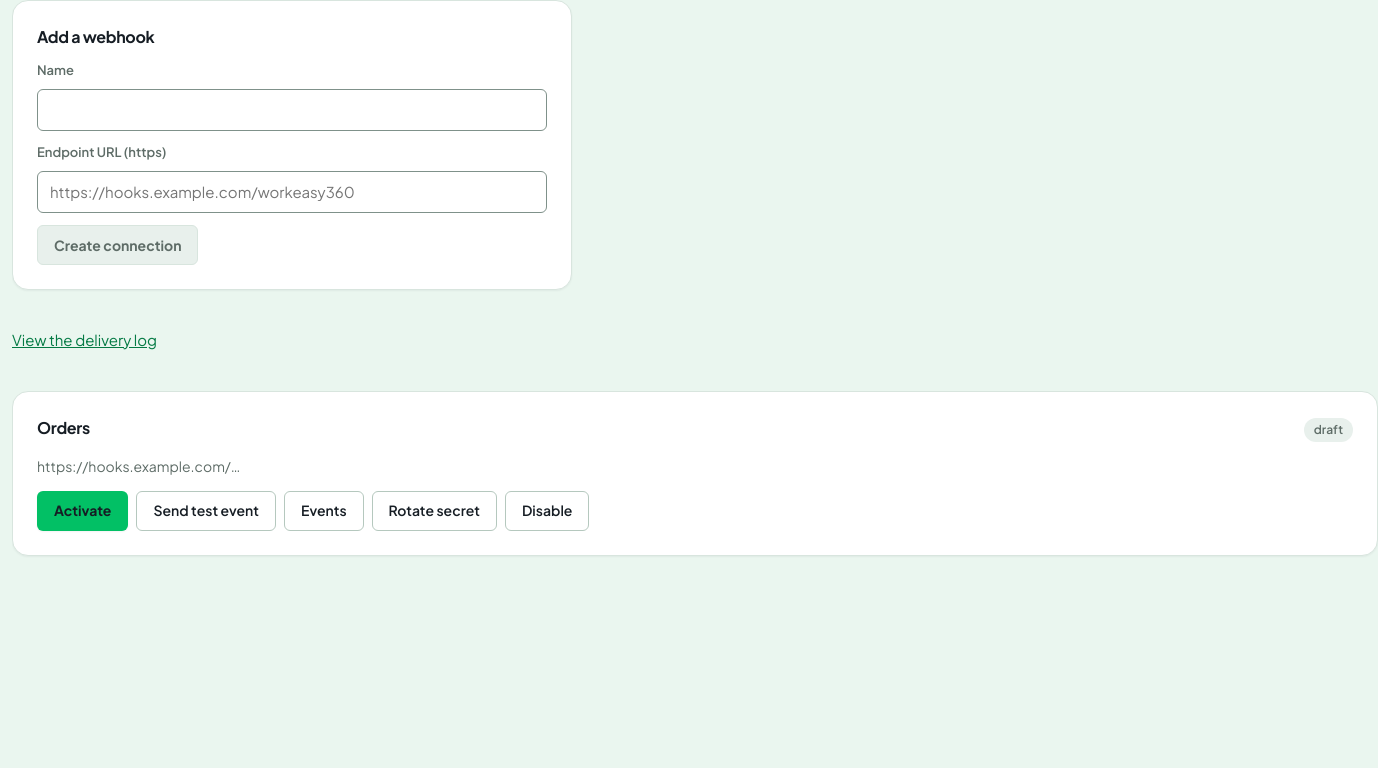
Test: ConnectionsSettings › runs the change at once and says so
Click the button "Activate" at (83, 510), box [37,490,128,530]
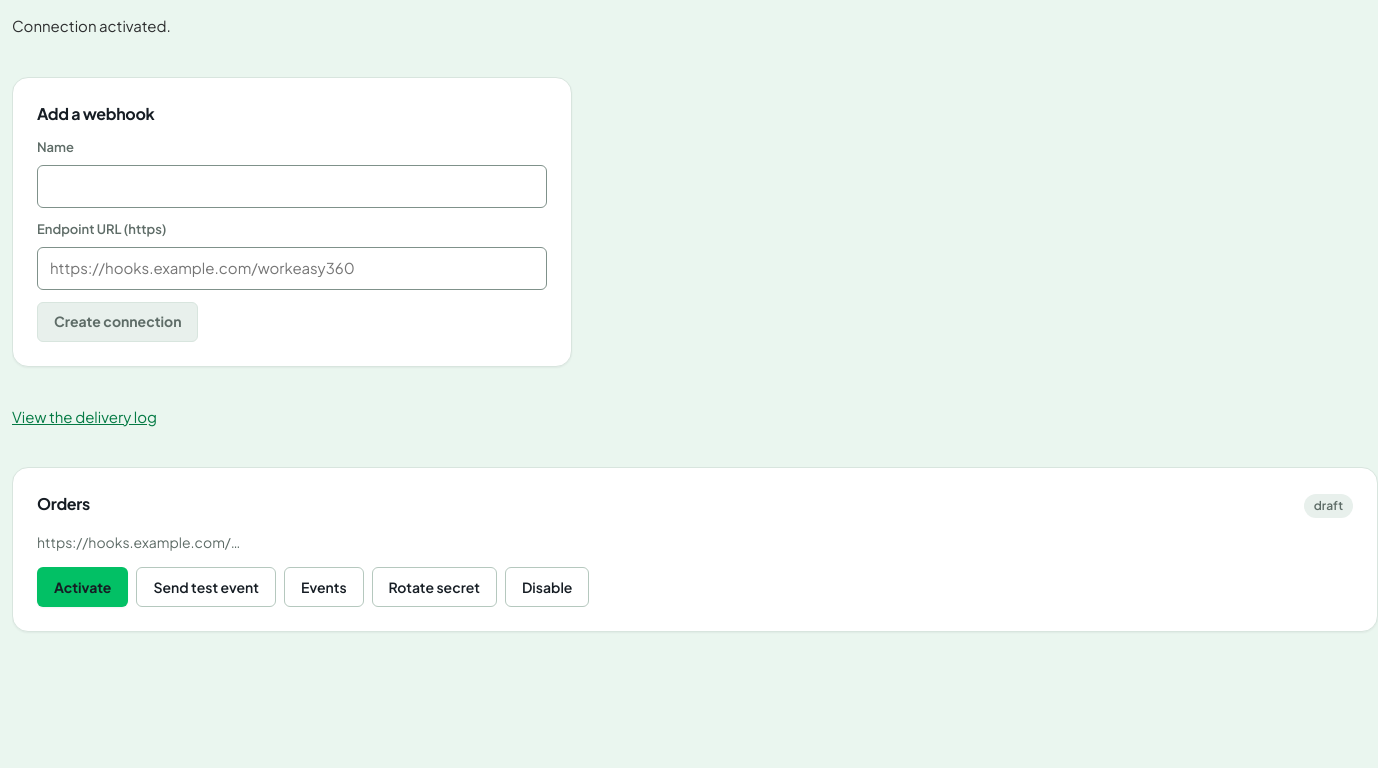
Check: the message reads "Connection activated.", box [12,16,171,35]
